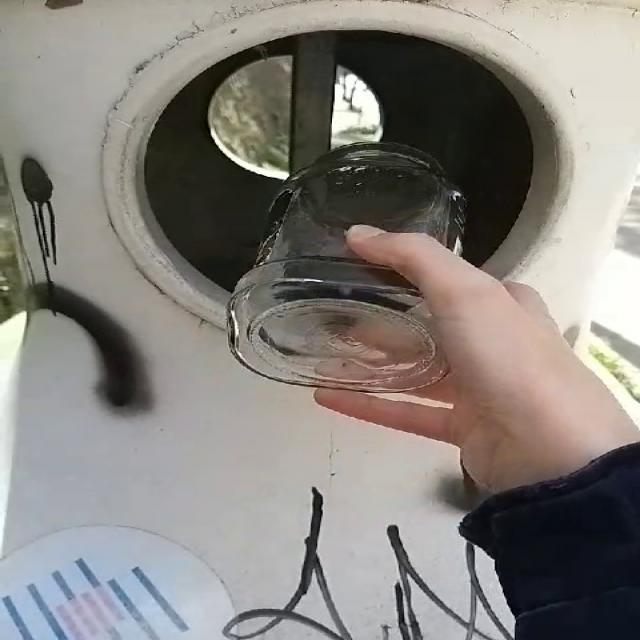Glass: (228, 142, 465, 392)
